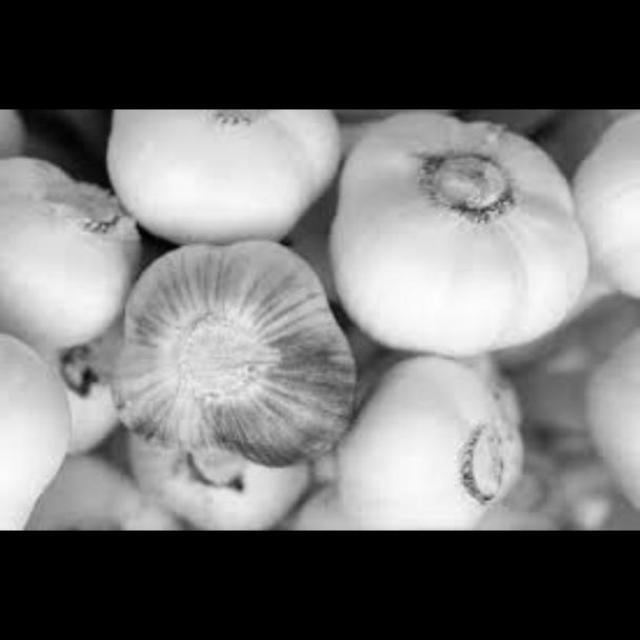toi: (328, 112, 596, 362), (109, 242, 352, 476), (112, 110, 348, 263), (340, 348, 534, 532), (1, 151, 153, 354), (116, 405, 318, 532), (1, 337, 98, 532), (562, 118, 640, 319), (577, 316, 640, 523)
